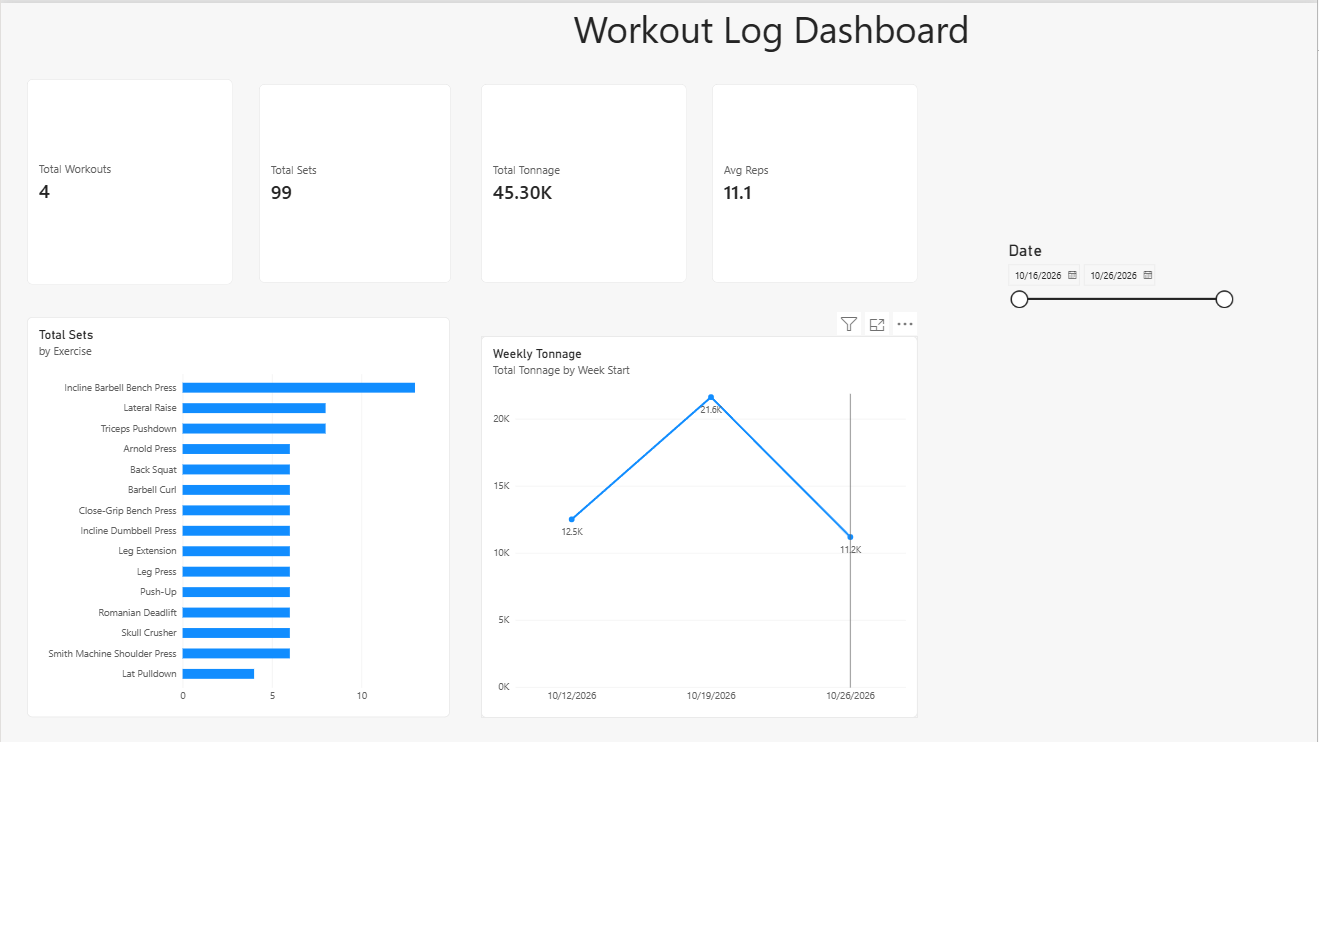

Layout of this report page (visuals, bound fields, positions):
{"tool":"powerbi","page":{"name":"Page 1","canvas":[1920,1080],"ordinal":0},"visuals":[{"type":"cardVisual","fields":{"Data":["exercise_sets.Total Sets"]},"box":[375.7,118.6,280,290],"z":0},{"type":"cardVisual","fields":{"Data":["exercise_muscle_groups.Total Workouts"]},"box":[38.1,111.2,300,300],"z":1},{"type":"cardVisual","fields":{"Data":["exercise_sets.Total Tonnage"]},"box":[700,118.6,300,290],"z":2},{"type":"cardVisual","fields":{"Data":["exercise_sets.Avg Reps"]},"box":[1037.1,118.6,300,290],"z":3},{"type":"lineChart","title":"Weekly Tonnage","fields":{"Category":["workouts.Week Start"],"Y":["exercise_sets.Total Tonnage"]},"box":[700,485.7,637.1,557.1],"z":4},{"type":"barChart","fields":{"Category":["exercises.name"],"Y":["exercise_sets.Total Sets"]},"box":[38.6,458.6,617.1,584.3],"z":5},{"type":"slicer","fields":{"Values":["workouts.workout_date"]},"box":[1461.4,347.1,338.6,300],"z":6},{"type":"textbox","box":[675.7,0,897.1,111.4],"z":7}]}

Visuals, with their boxes on the page's 1920x1080 design canvas (x1, y1, x2, y2). These are canvas units, not pixel positions in the 1319x942 screenshot, which may show the page scaled, cropped or inside an application window:
cardVisual - exercise_sets.Total Sets: (x1=376, y1=119, x2=656, y2=409)
cardVisual - exercise_muscle_groups.Total Workouts: (x1=38, y1=111, x2=338, y2=411)
cardVisual - exercise_sets.Total Tonnage: (x1=700, y1=119, x2=1000, y2=409)
cardVisual - exercise_sets.Avg Reps: (x1=1037, y1=119, x2=1337, y2=409)
"Weekly Tonnage" lineChart: (x1=700, y1=486, x2=1337, y2=1043)
barChart - exercises.name x exercise_sets.Total Sets: (x1=39, y1=459, x2=656, y2=1043)
slicer - workouts.workout_date: (x1=1461, y1=347, x2=1800, y2=647)
textbox: (x1=676, y1=0, x2=1573, y2=111)
